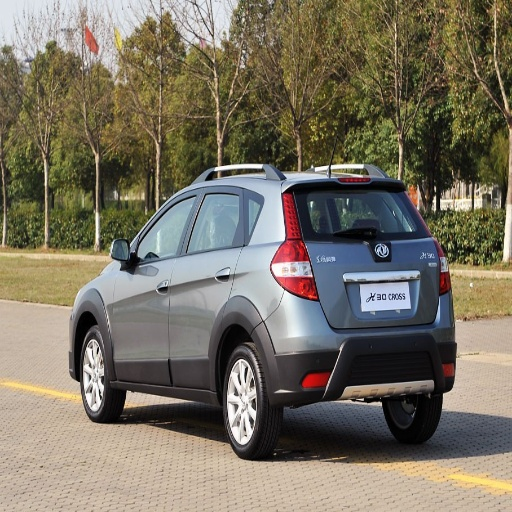back_bumper: (254, 289, 456, 408)
back_glass: (294, 185, 426, 235)
back_left_door: (169, 187, 244, 387)
